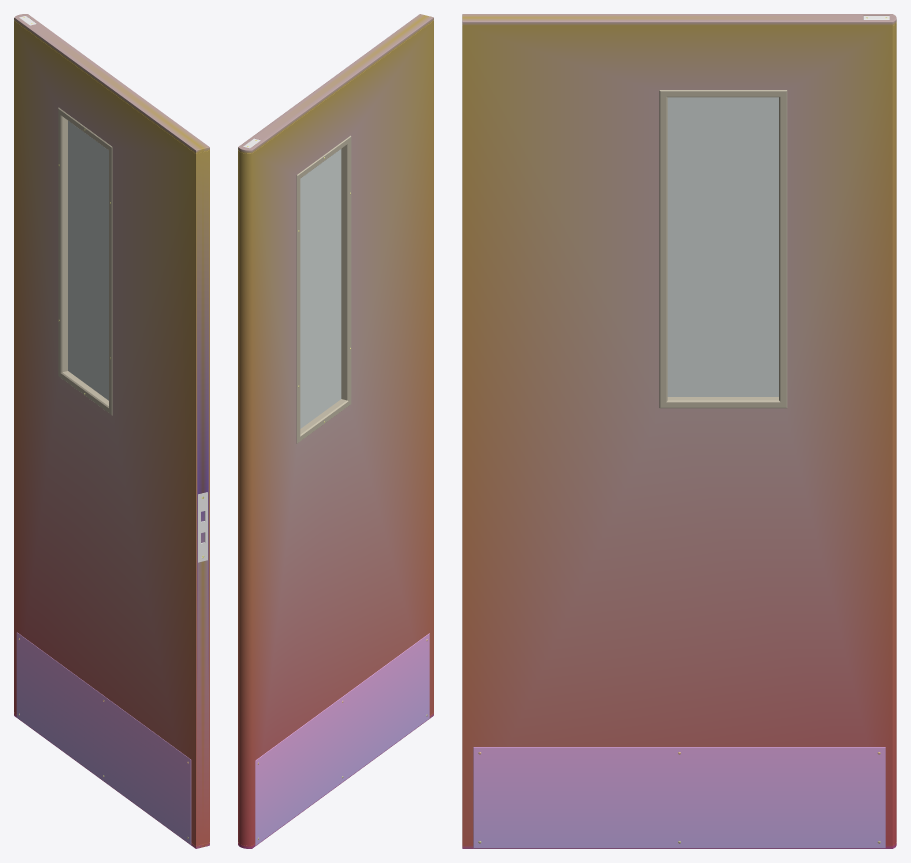
File: Kit_DoorLeaf_Steel_DA.fbx
3 views of the same model, side by side, from view 1: azimuth 30°, elevation 25°; view 2: azimuth 150°, elevation 25°; view 3: azimuth 270°, elevation 25° (orthographic). The views are drawn at different scales.
Parts seen in each view (by area): view 1: Kit_DoorLeaf_Steel_DA_LOD0; view 2: Kit_DoorLeaf_Steel_DA_LOD0; view 3: Kit_DoorLeaf_Steel_DA_LOD0.
Part boxes in pixels (x1=…): Kit_DoorLeaf_Steel_DA_LOD0: x1=14, y1=14, x2=209, y2=848; Kit_DoorLeaf_Steel_DA_LOD0: x1=238, y1=14, x2=433, y2=848; Kit_DoorLeaf_Steel_DA_LOD0: x1=462, y1=14, x2=896, y2=848.
Size of what is drawn, in the model's own units: 0.0498 by 2.08 by 0.9902.
